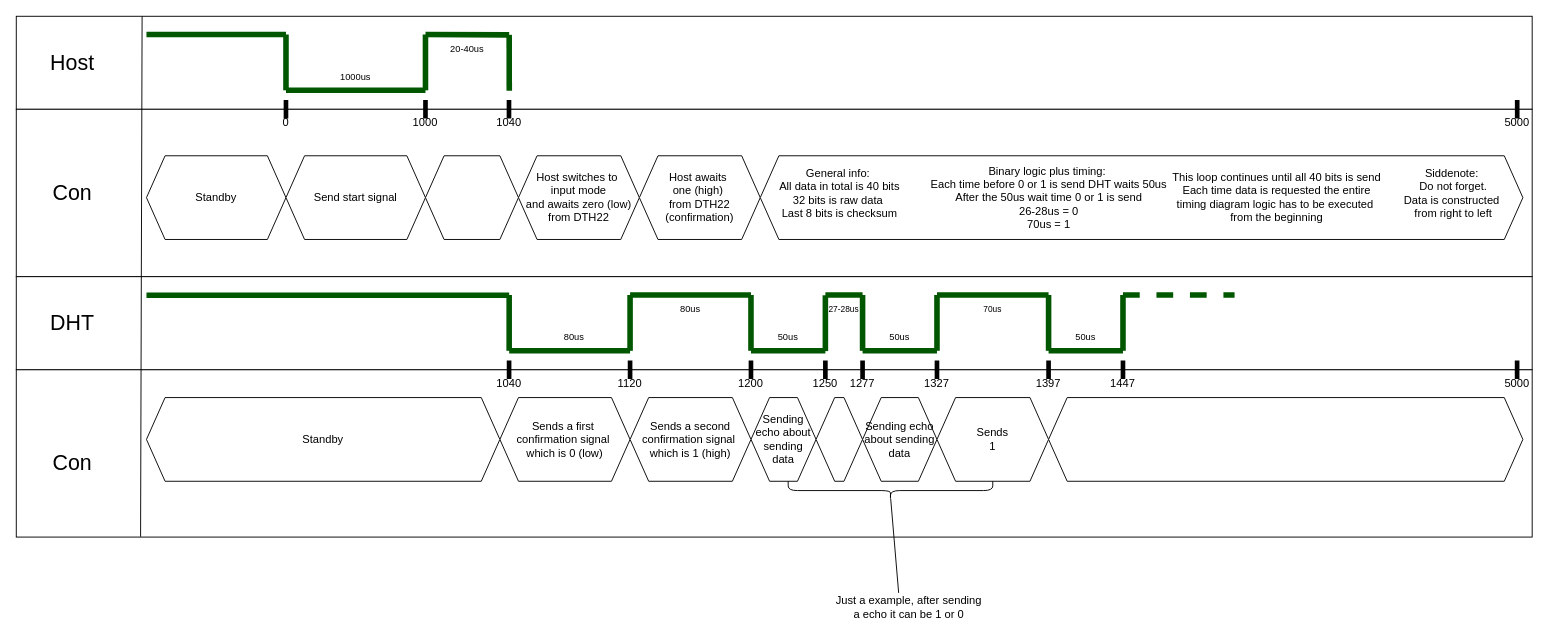
This 1561x637 diagram has some shape labels left out. The centre of each missing label's shape, as x and y in pixels:
"Confirmation signal for DHT22" goes at (x=471, y=197).
"Repeat steps from 1200us until 40 bits are written" goes at (x=1285, y=439).
"Sends 0" goes at (x=839, y=439).
